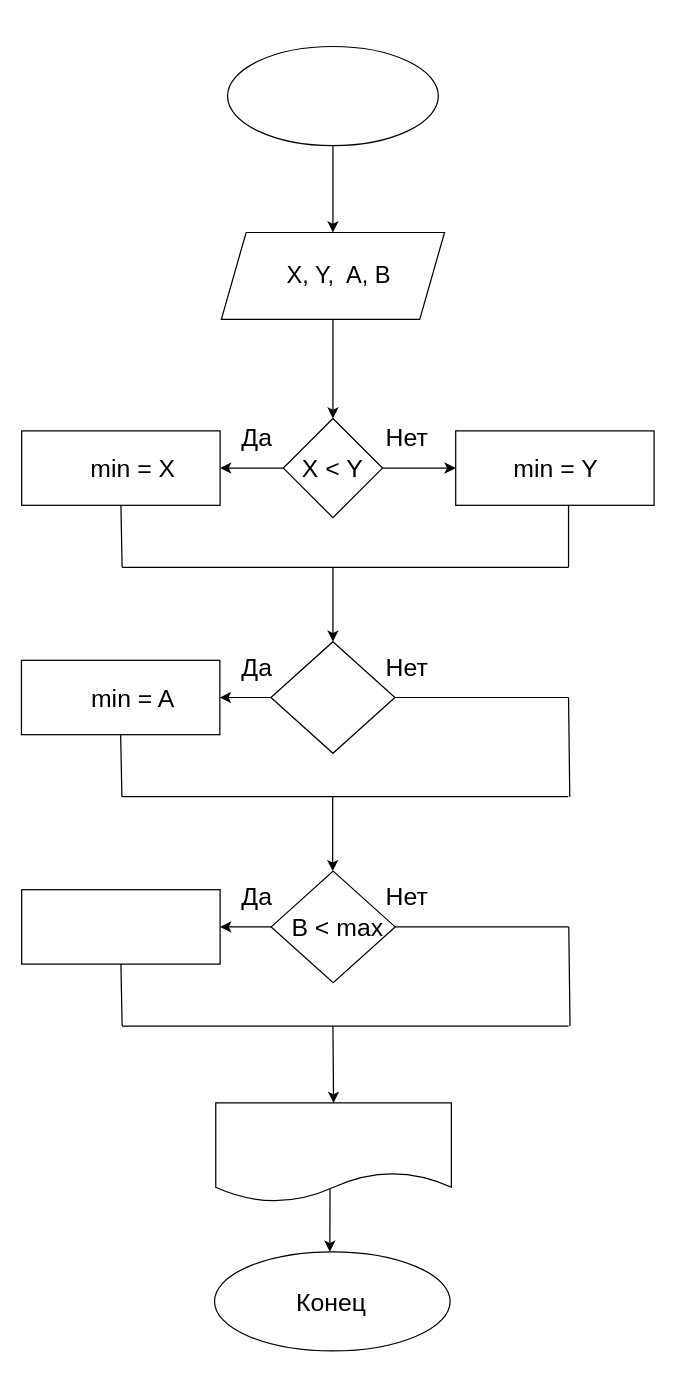
Image size: 677x1373. Some labels were removed from this diagram. Each missing label, with the centre of its shape:
A < min: (x=332, y=696)
min: (x=333, y=1152)
min = B: (x=120, y=926)
Начало: (x=332, y=95)
